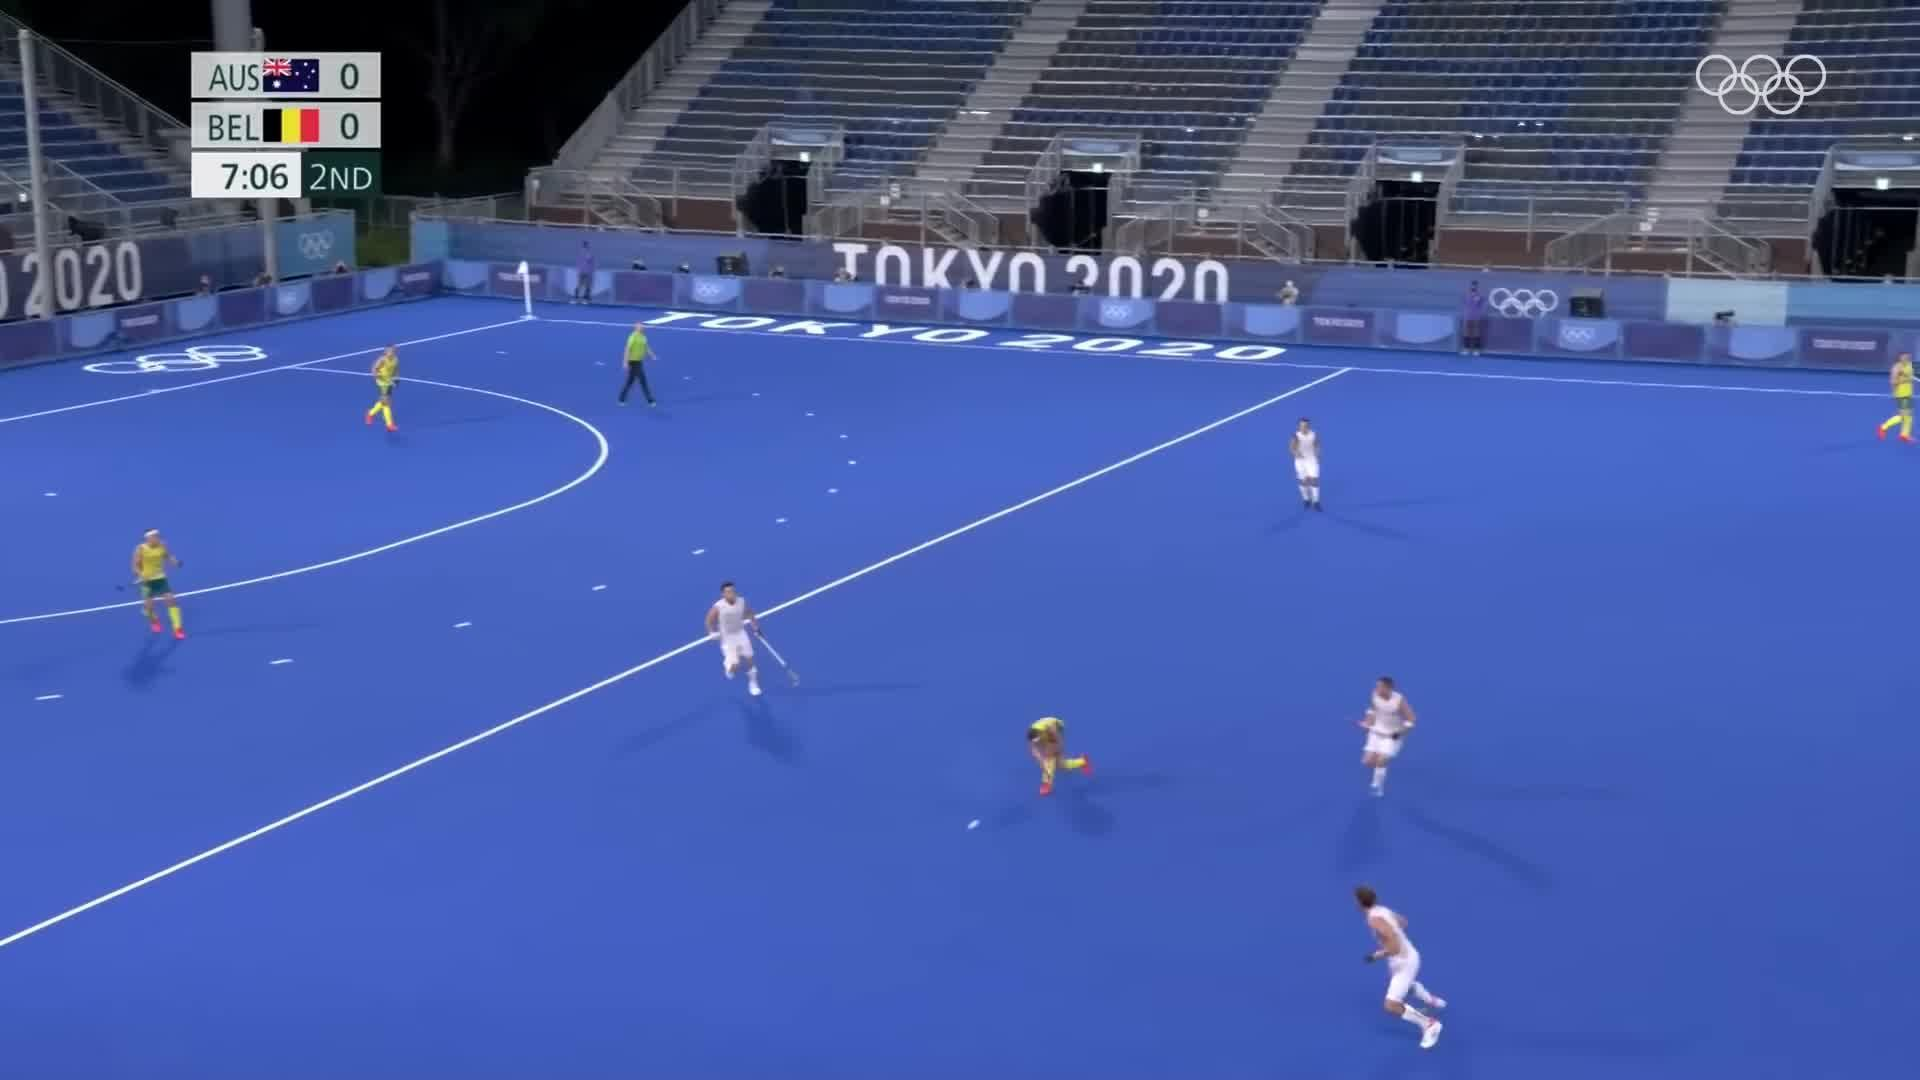ball: (965, 815, 982, 833)
